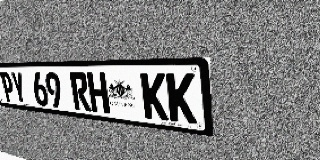6: (31, 72, 50, 107)
9: (44, 72, 64, 108)
H: (87, 72, 110, 114)
K: (166, 73, 197, 124), (140, 73, 169, 121)
P: (0, 72, 16, 103)
R: (69, 72, 91, 112)
Y: (10, 72, 27, 104)
